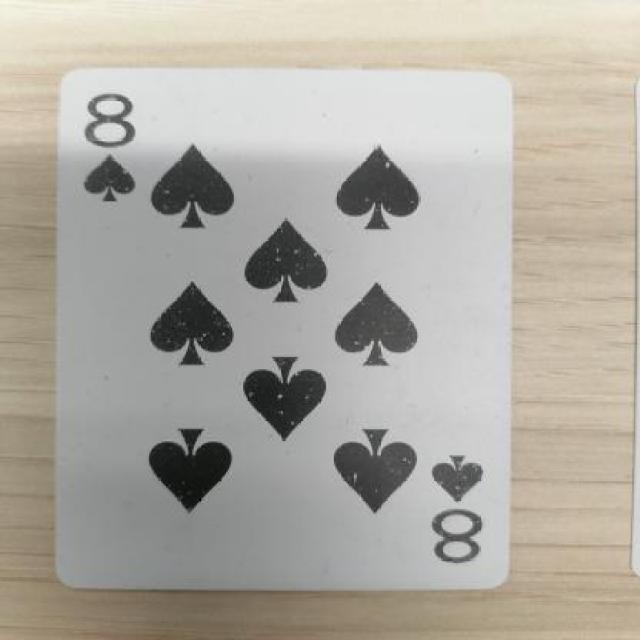8S: (412, 434, 513, 578), (67, 78, 159, 214)
